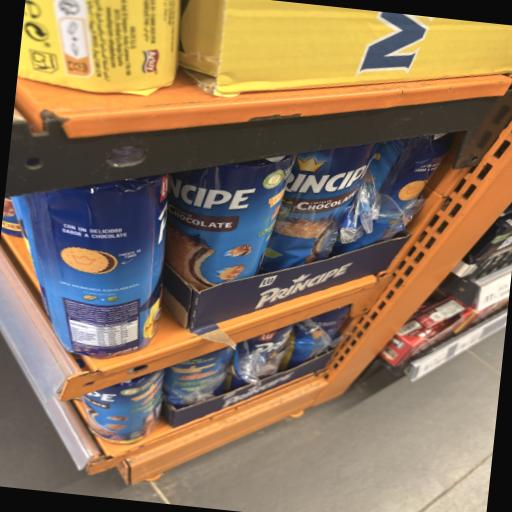prince: (112, 122, 338, 384)
